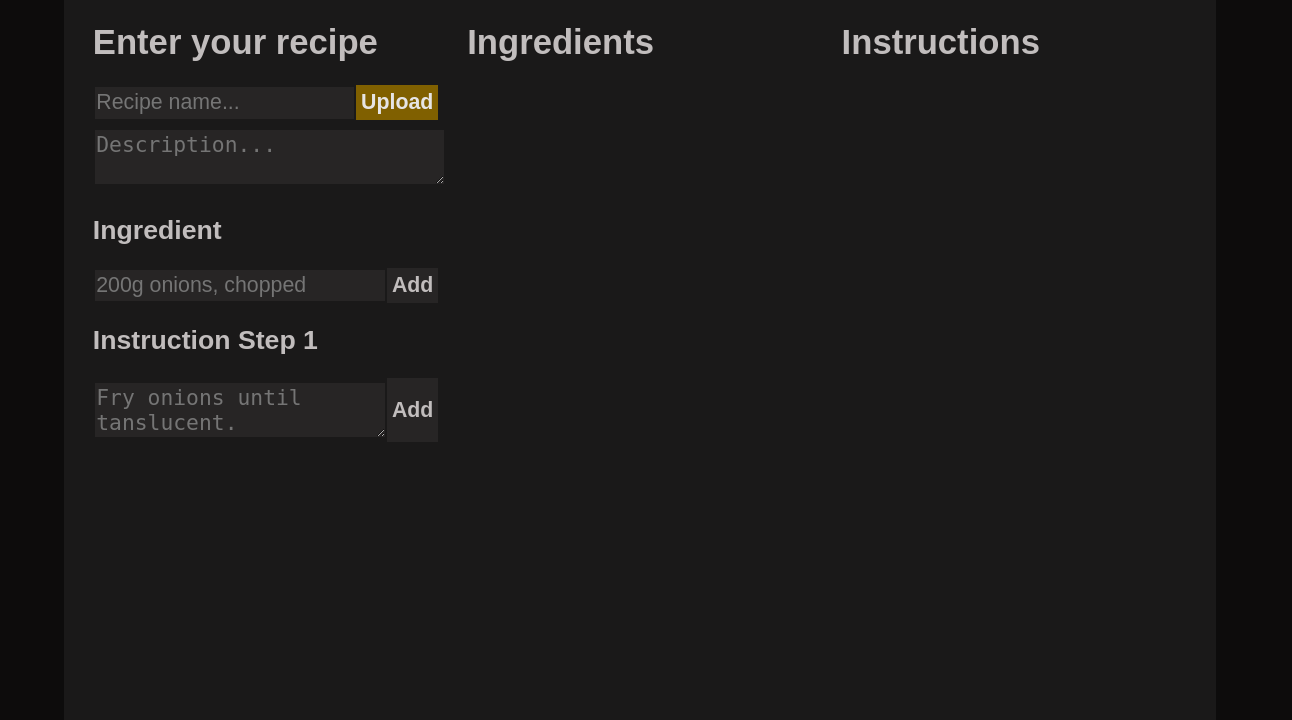
Test: Upload › should add typed instruction to the DynamicEditList
Expected: the text "edit" is not shown
Expected: the text "delete" is not shown
Type "Fry the egg" into the text box with test id "currInstruction" at (240, 410), box [94,383,385,437]
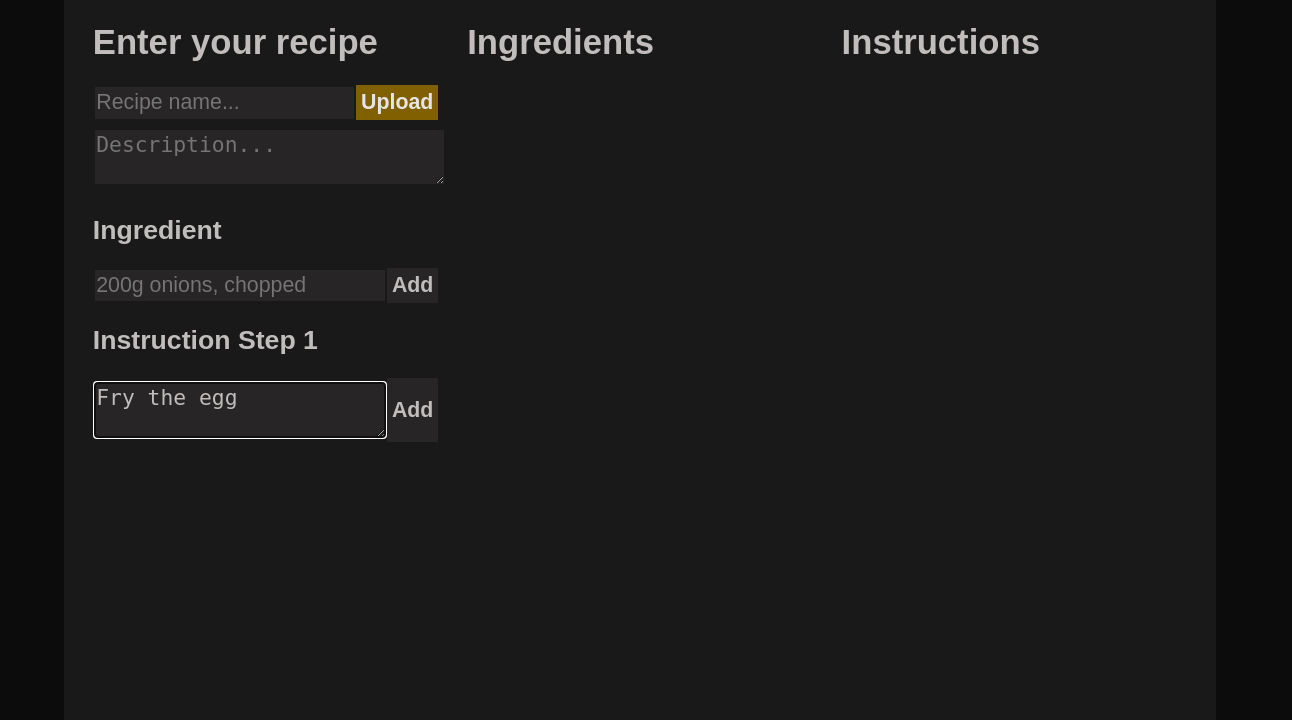
Click the button with test id "addInstruction-btn" at (413, 410), box [387,378,438,442]
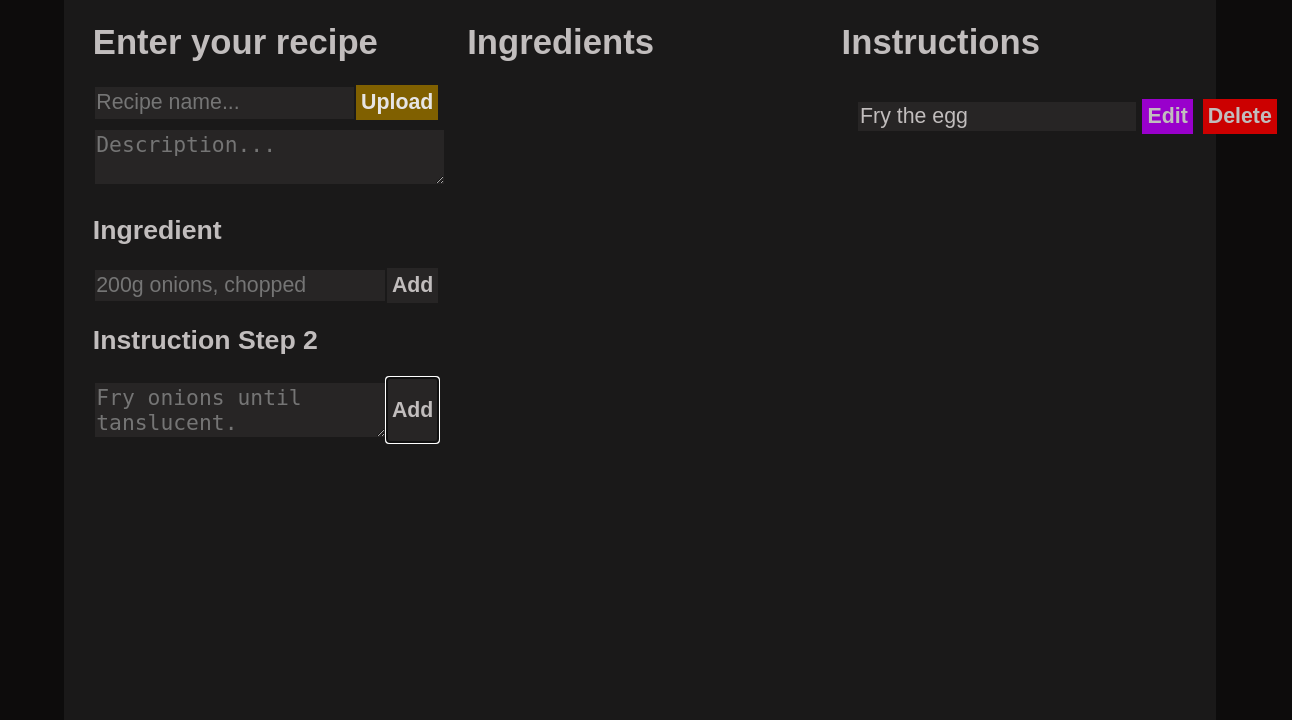
Now the text box with test id "currInstruction" is empty, box [94,383,385,437]
Now the field showing "Fry the egg" is shown, box [858,102,1136,131]
Now the button "Edit" is shown, box [1142,99,1193,134]
